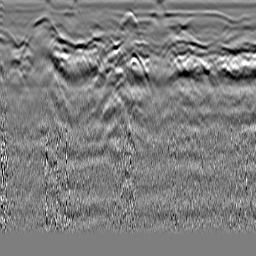cavity: (118, 9, 138, 30)
